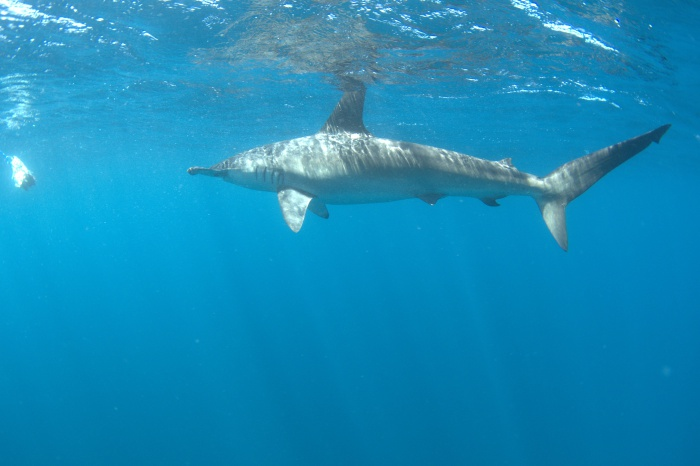Hammer: (172, 72, 695, 255), (302, 190, 415, 257)
